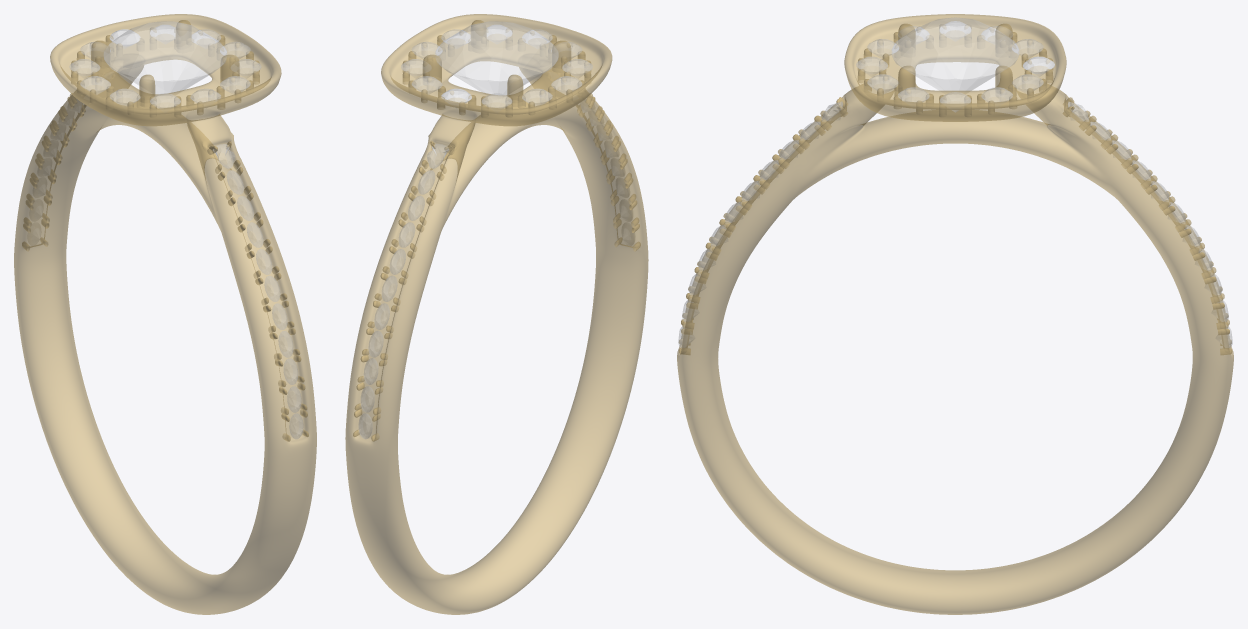
3 views of the same model, side by side, from view 1: azimuth 30°, elevation 25°; view 2: azimuth 150°, elevation 25°; view 3: azimuth 270°, elevation 25° (orthographic). The views are drawn at different scales.
Parts seen in each view (by area): view 1: Ring, Diamond; view 2: Ring, Diamond; view 3: Ring, Diamond.
Boxes of the visible parts, x1,y1,x2,y2 form: Ring: [14, 14, 316, 614]; Diamond: [28, 21, 303, 438]; Ring: [345, 14, 648, 614]; Diamond: [358, 21, 634, 438]; Ring: [677, 14, 1233, 614]; Diamond: [678, 17, 1232, 347].
Bounding box in the file's own units: 0.9088 × 2.64 × 2.3.
